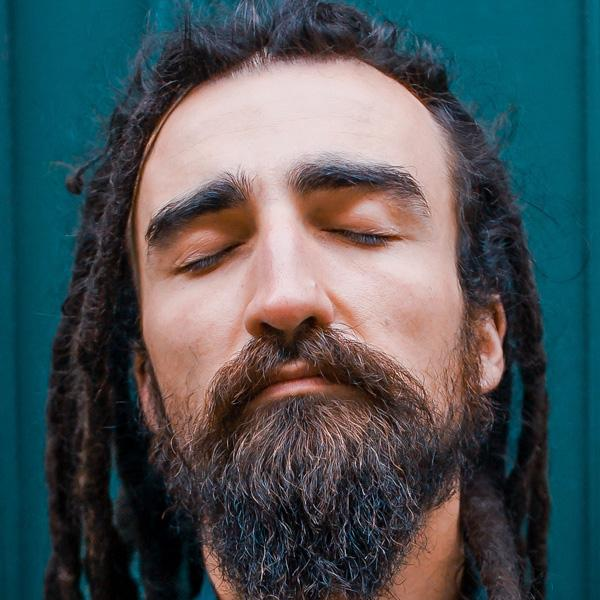Eyes: (156, 214, 254, 295), (304, 201, 412, 263)
